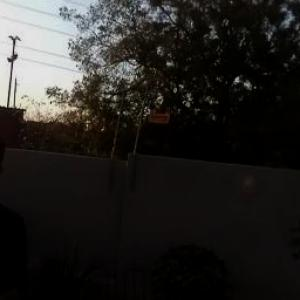follow: (0, 117, 32, 299)
